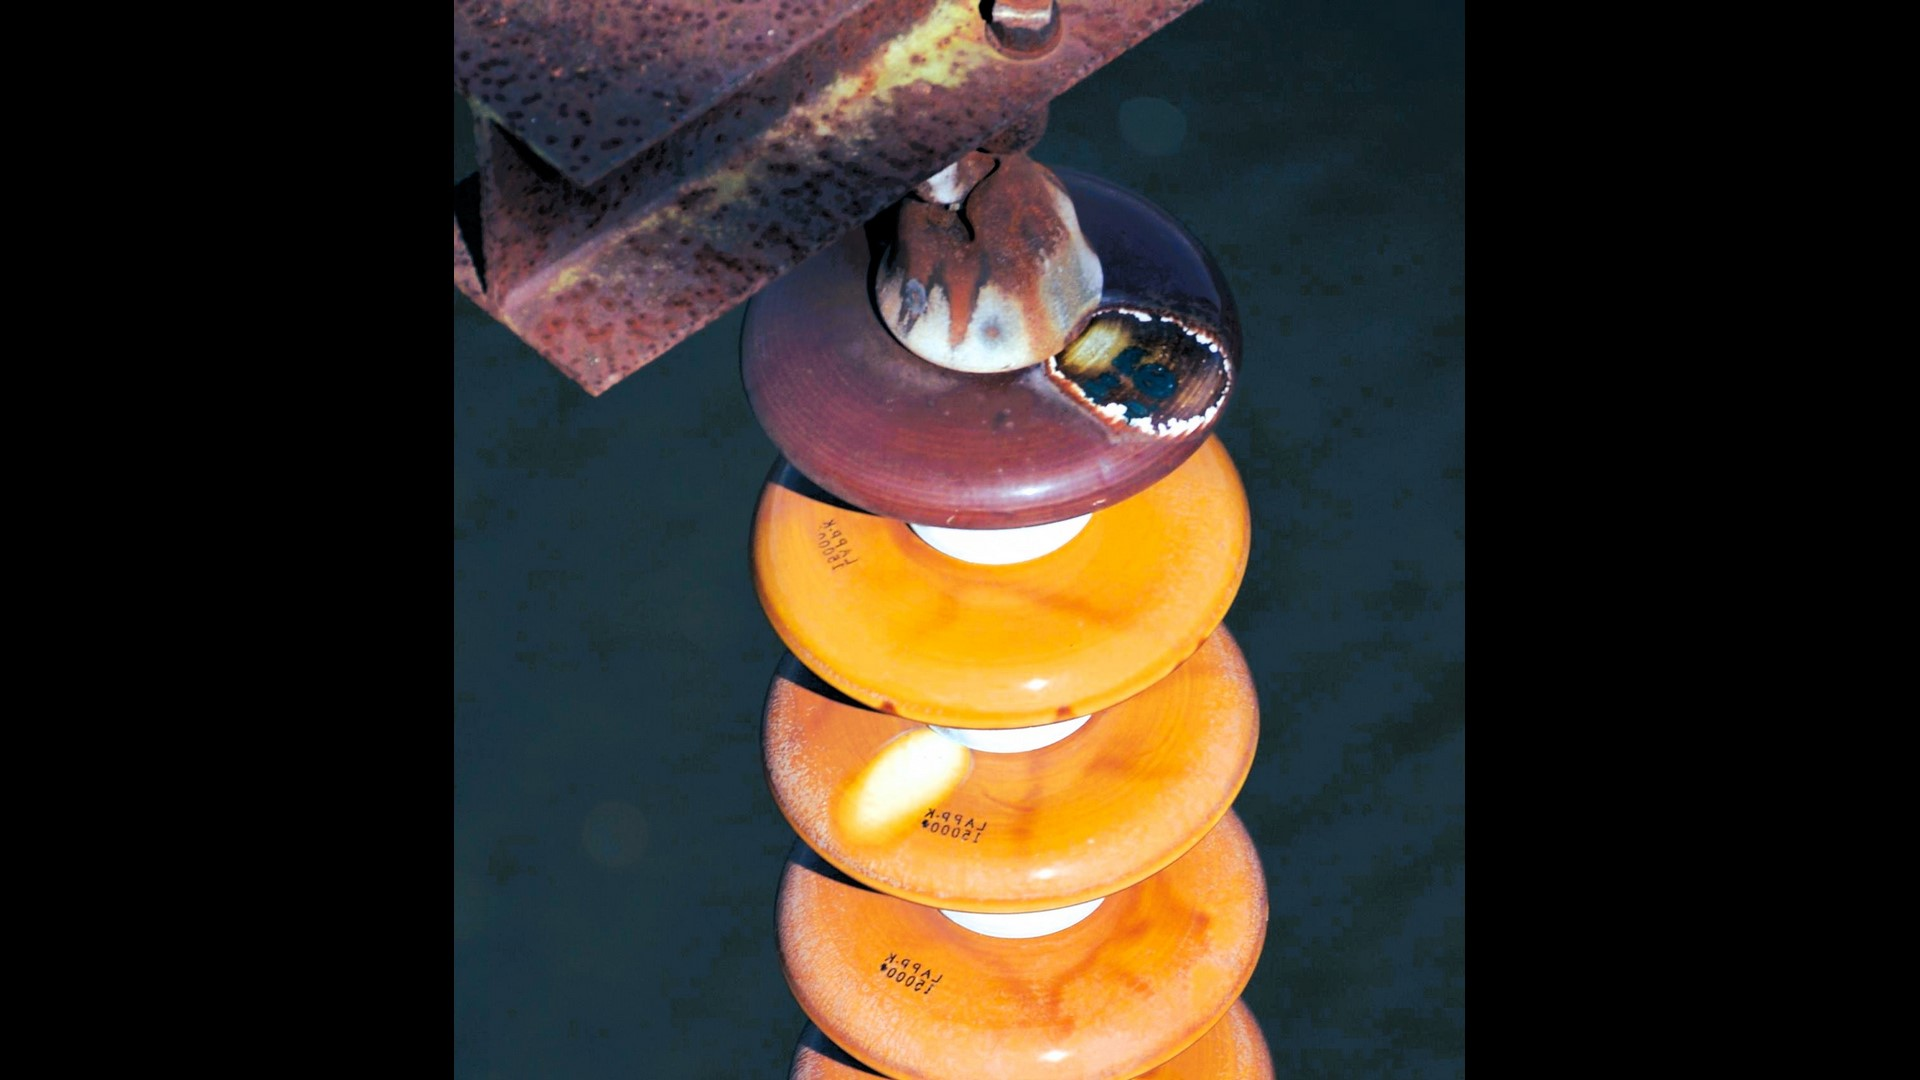Insulator flashover: (702, 146, 1259, 535), (752, 650, 1266, 920)
